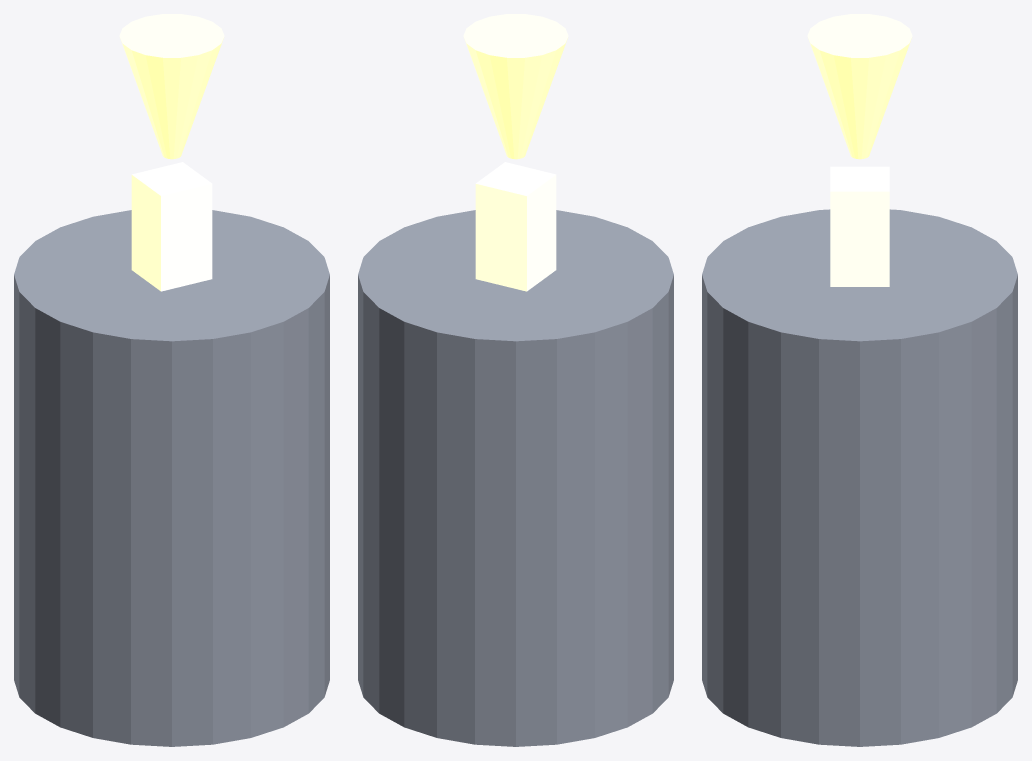
File: molotov.glb
3 renders of one model, left to right at view 1: azimuth 30°, elevation 25°; view 2: azimuth 150°, elevation 25°; view 3: azimuth 270°, elevation 25°, orthographic.
Parts seen in each view (by area): view 1: flask, flame_mark, neck; view 2: flask, flame_mark, neck; view 3: flask, flame_mark, neck.
Boxes of the visible parts, left/top/right/bottom form: flask: left=14, top=210, right=329, bottom=746; flame_mark: left=119, top=14, right=224, bottom=159; neck: left=131, top=162, right=212, bottom=291; flask: left=358, top=210, right=673, bottom=746; flame_mark: left=463, top=14, right=568, bottom=159; neck: left=475, top=162, right=556, bottom=291; flask: left=702, top=209, right=1017, bottom=746; flame_mark: left=807, top=14, right=912, bottom=159; neck: left=830, top=166, right=889, bottom=286.
Size of the model in its own units: 0.24 by 0.54 by 0.24.
